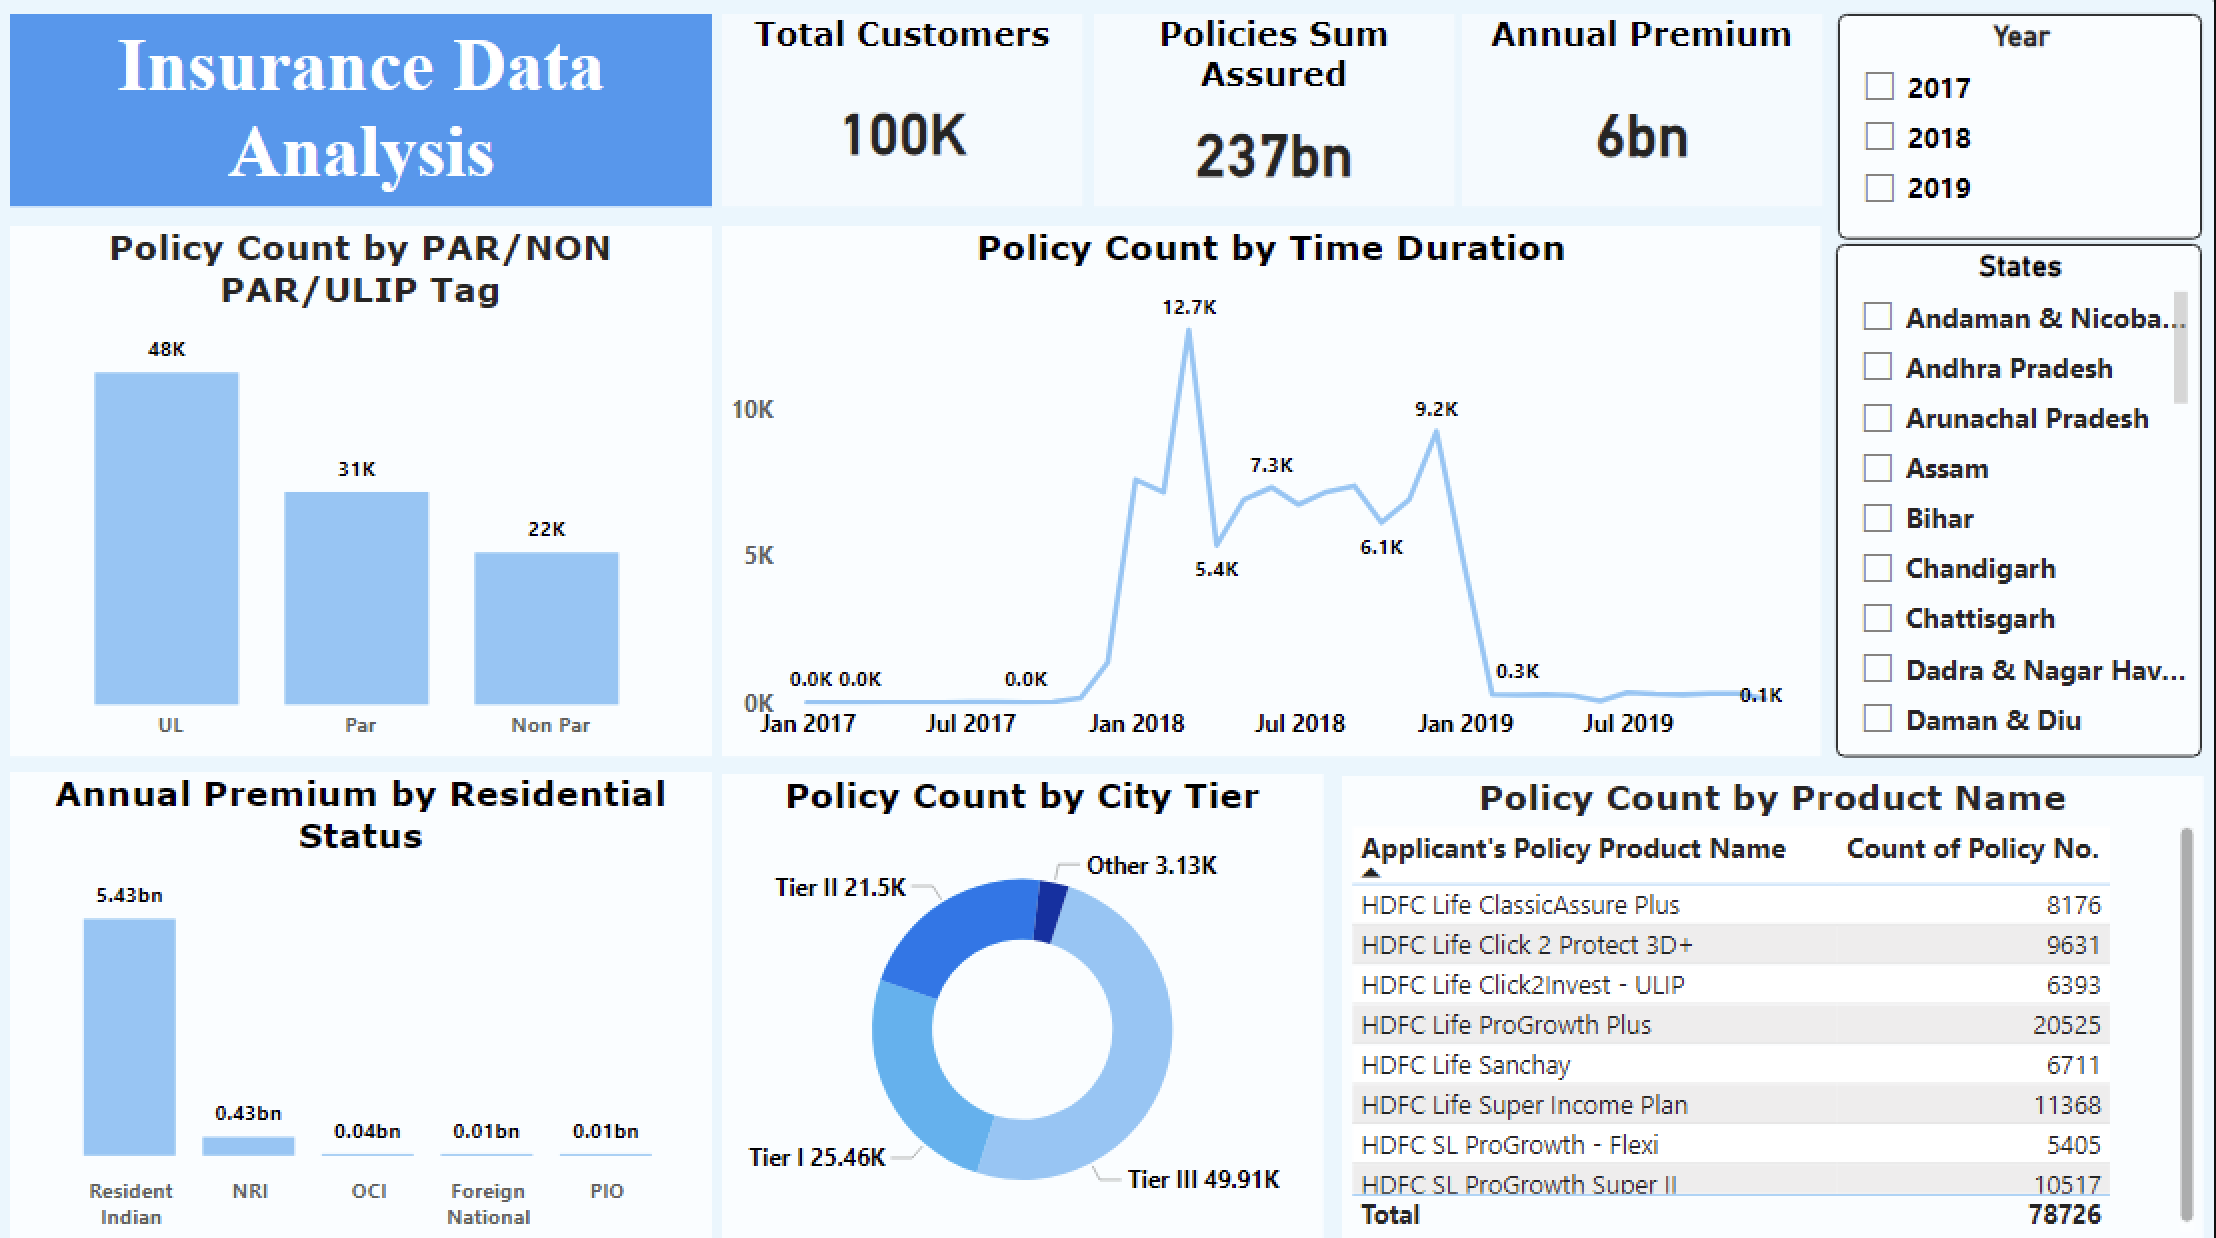

The dashboard page shown, as its layout file describes it:
{"tool":"powerbi","page":{"name":"Page 1","canvas":[1280,720],"ordinal":0},"visuals":[{"type":"tableEx","title":"Policy Count by Product Name","fields":{"Values":["Sheet1.Applicant's Policy Product Name","CountNonNull(Sheet1.Policy No.)"]},"box":[776.2,450,496.6,269.4],"z":0},{"type":"donutChart","title":"Policy Count by City Tier","fields":{"Category":["Sheet1.Application  Life Assured City Tier"],"Y":["CountNonNull(Sheet1.Policy No.)"]},"box":[419.4,448.5,346.6,270.9],"z":1000},{"type":"lineChart","title":"Policy Count by Time Duration","fields":{"Y":["CountNonNull(Sheet1.Policy No.)"],"Category":["Sheet1.Application Login Date.Variation.Date Hierarchy.Year","Sheet1.Application Login Date.Variation.Date Hierarchy.Month"]},"box":[419.3,132.3,633.8,306.2],"z":2000},{"type":"clusteredColumnChart","title":"Annual Premium by Residential Status","fields":{"Category":["Sheet1.Application Life Assured Residential Status"],"Y":["Sum(Sheet1.Applicant's Policy Annualized Premium)"]},"box":[8.5,447.7,404.6,272.3],"z":3000},{"type":"clusteredColumnChart","title":"Policy Count by PAR/NON PAR/ULIP Tag","fields":{"Category":["Sheet1.Applicant's Policy PAR/NON PAR/ULIP Tag"],"Y":["CountNonNull(Sheet1.Policy No.)"]},"box":[8.5,132.3,404.6,306.2],"z":4000},{"type":"textbox","box":[8.1,10.4,405,110.8],"z":5000},{"type":"card","title":"Total Customers","fields":{"Values":["CountNonNull(Sheet1.Policy No.)"]},"box":[419.3,10.8,207.7,110.8],"z":6000},{"type":"card","title":"Policies Sum Assured","fields":{"Values":["Sum(Sheet1.Applicant's Policy Sum Assured)"]},"box":[633.1,10.8,207.7,110.8],"z":7000},{"type":"card","title":"Annual Premium","fields":{"Values":["Sum(Sheet1.Applicant's Policy Annualized Premium)"]},"box":[845.4,10.8,207.7,110.8],"z":8000},{"type":"slicer","title":"Year","fields":{"Values":["Sheet1.Application Login Date.Variation.Date Hierarchy.Year"]},"box":[1063,10.2,209.7,129.6],"z":9000},{"type":"slicer","title":"States","fields":{"Values":["Sheet1.Application Life Assured State"]},"box":[1061.6,142.7,211.1,295.6],"z":10000}]}

Visuals, with their boxes in screenshot pixels (x1, y1, x2, y2), scaled from the page's 1280x720 canvas onto the 2216x1238 screenshot:
"Policy Count by Product Name" tableEx: [x1=1344, y1=774, x2=2204, y2=1237]
"Policy Count by City Tier" donutChart: [x1=726, y1=771, x2=1326, y2=1237]
"Policy Count by Time Duration" lineChart: [x1=726, y1=227, x2=1823, y2=754]
"Annual Premium by Residential Status" clusteredColumnChart: [x1=15, y1=770, x2=715, y2=1237]
"Policy Count by PAR/NON PAR/ULIP Tag" clusteredColumnChart: [x1=15, y1=227, x2=715, y2=754]
textbox: [x1=14, y1=18, x2=715, y2=208]
"Total Customers" card: [x1=726, y1=19, x2=1085, y2=209]
"Policies Sum Assured" card: [x1=1096, y1=19, x2=1456, y2=209]
"Annual Premium" card: [x1=1464, y1=19, x2=1823, y2=209]
"Year" slicer: [x1=1840, y1=18, x2=2203, y2=240]
"States" slicer: [x1=1838, y1=245, x2=2203, y2=754]
